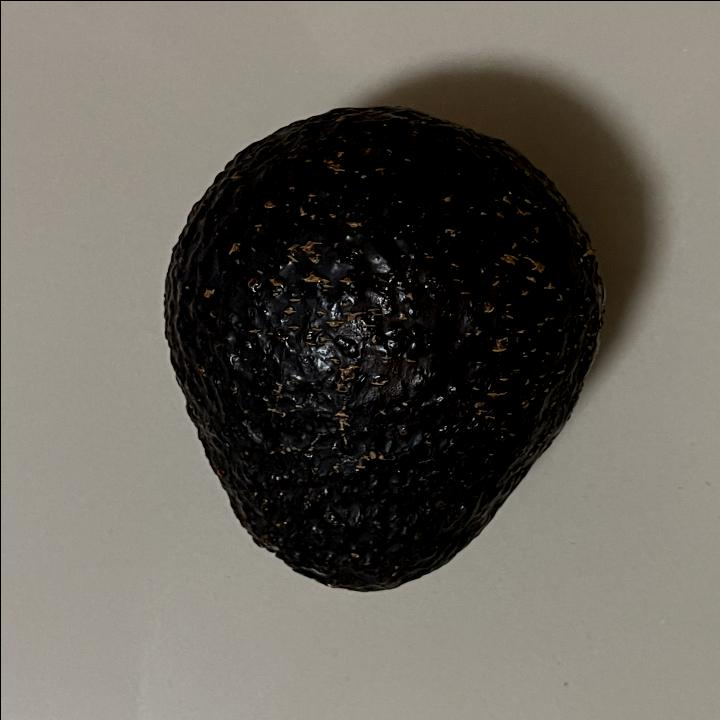Level3: (148, 99, 614, 600)
